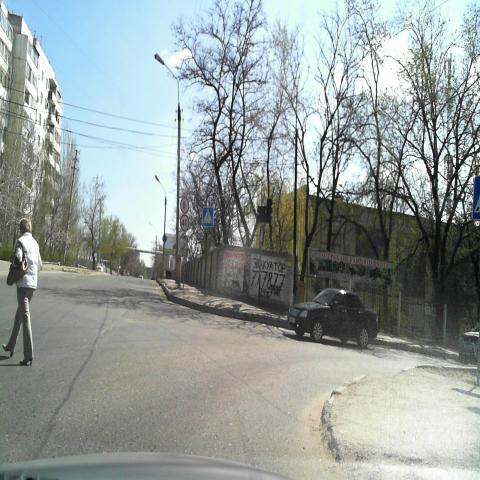3_11: (180, 196, 190, 213)
